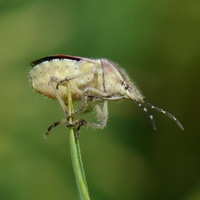insect: (29, 55, 183, 138)
